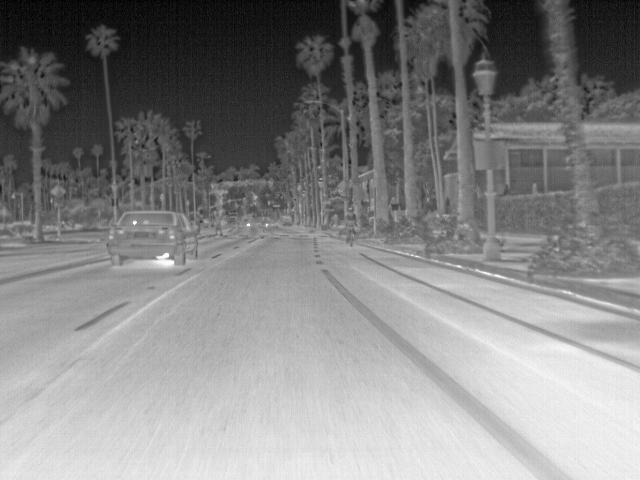car: (107, 209, 200, 268), (276, 213, 295, 227)
person: (344, 207, 360, 243)
